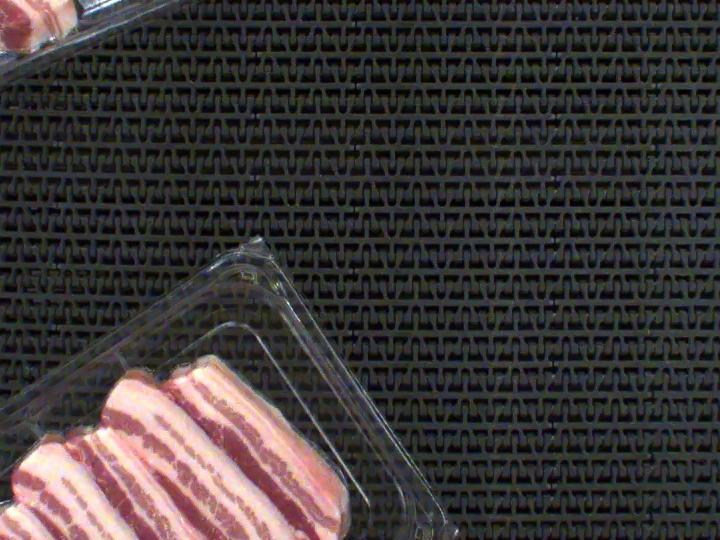unsealed: (0, 492, 34, 540)
